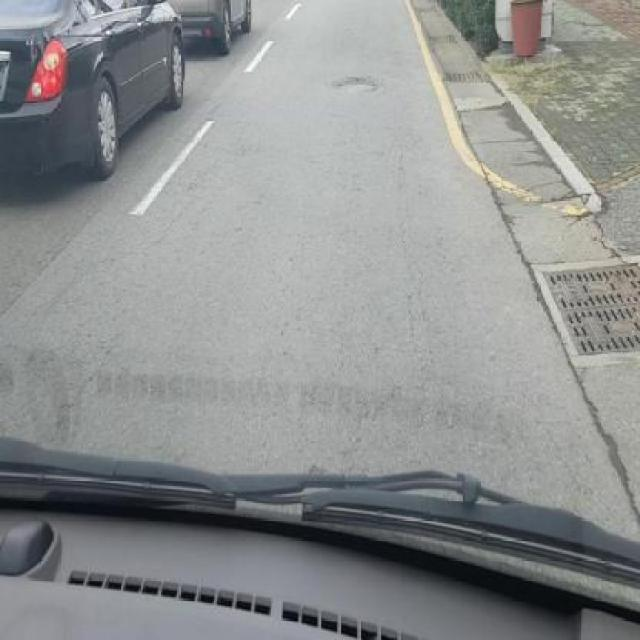Manhole: (538, 250, 640, 368), (444, 66, 494, 86), (328, 76, 379, 93), (430, 30, 464, 50), (418, 4, 448, 15)
